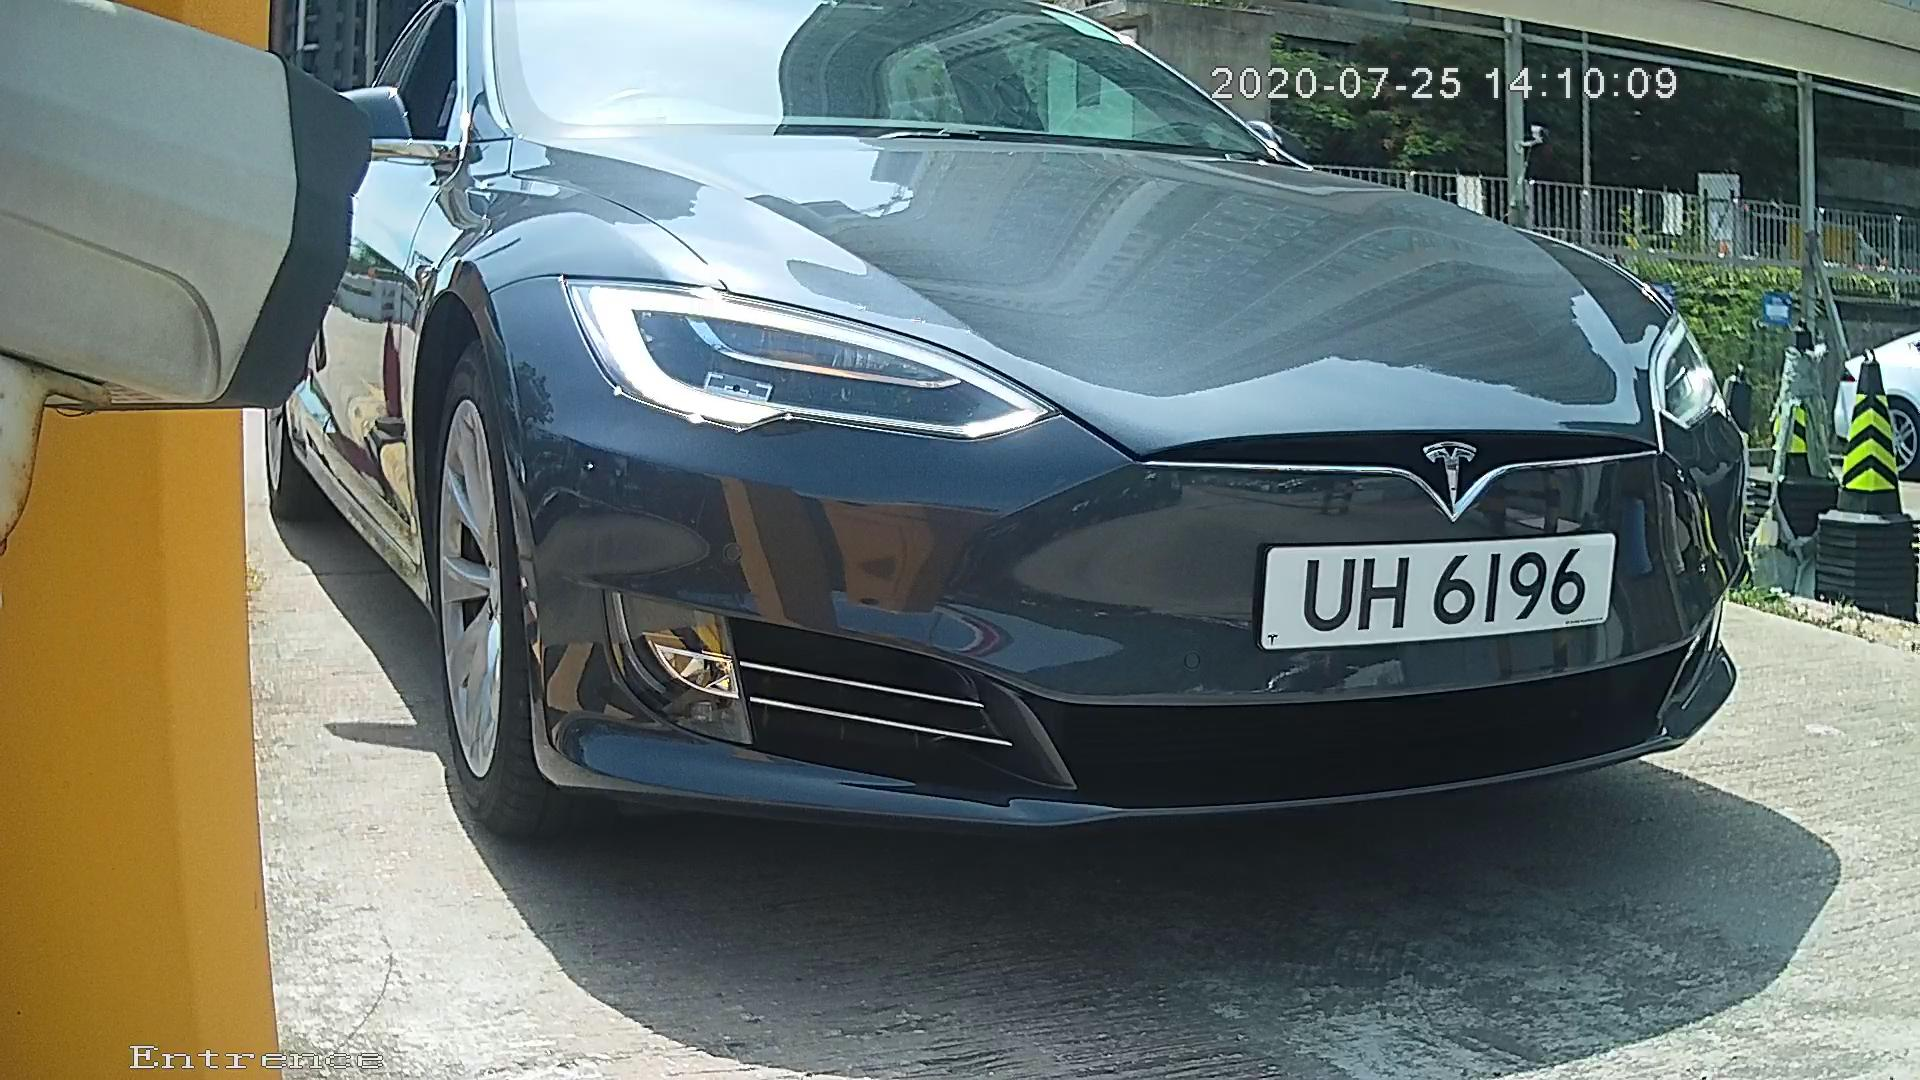License Plate: (1235, 516, 1621, 671)
